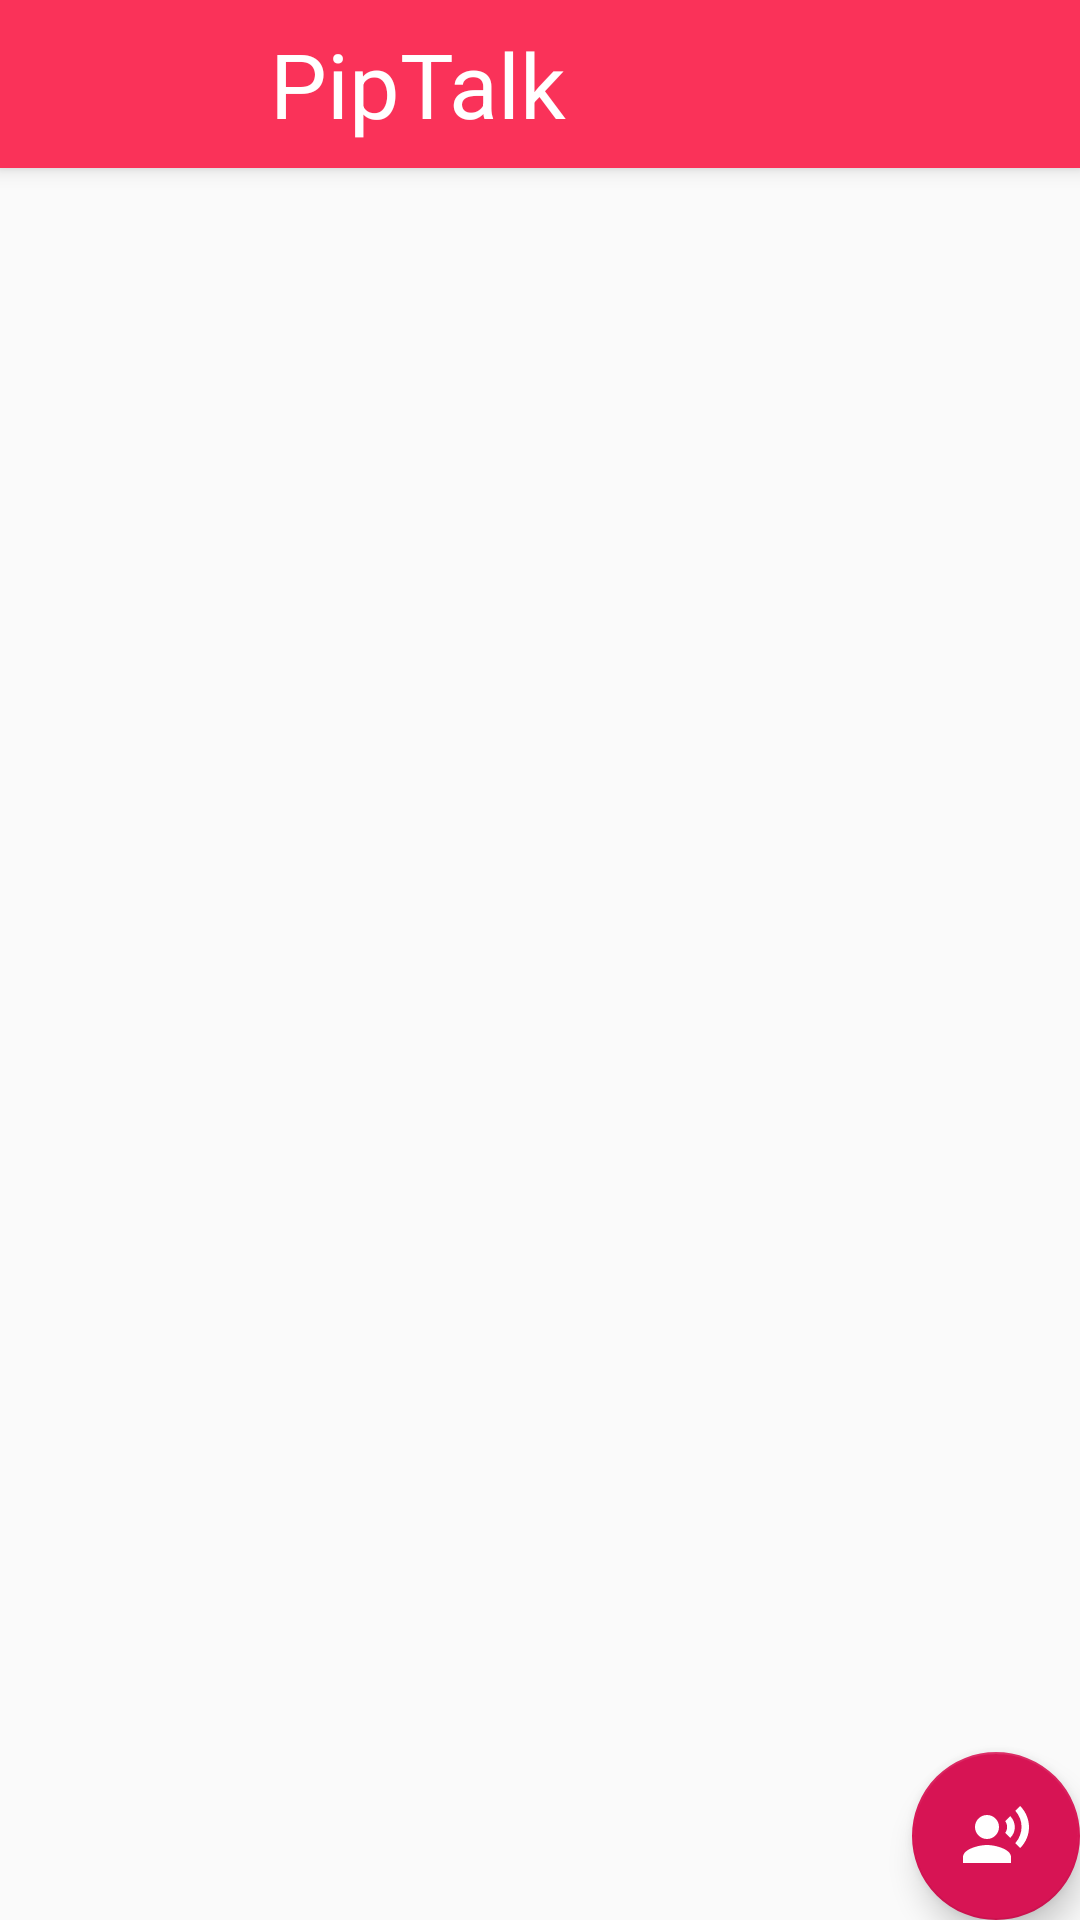

Locate icon controls on the screen. Image size 1080w x 1920h, boxes as (x1=x1, y1=y1, x2=x2, y2=y2).
record voice over: (x1=912, y1=1752, x2=1080, y2=1920)
